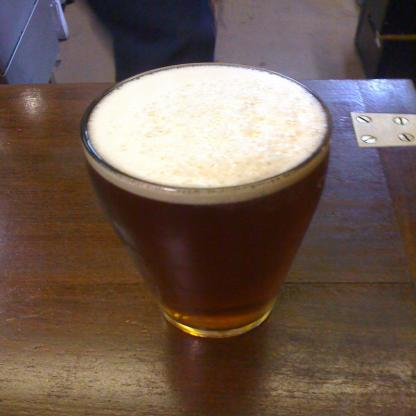drinking: (80, 63, 333, 340)
